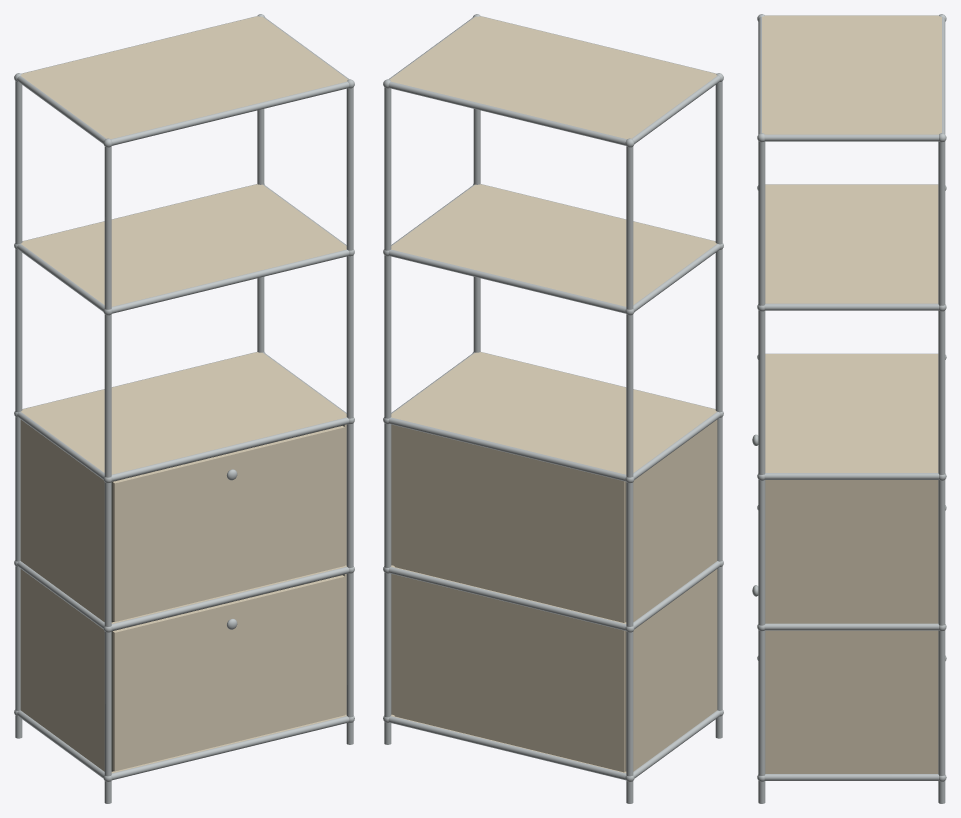
Rendered from layer-600-1520-ivory.glb.
The picture shows the model from 3 angles, left to right: view 1: azimuth 30°, elevation 25°; view 2: azimuth 150°, elevation 25°; view 3: azimuth 270°, elevation 25°; orthographic projection.
Parts seen in each view (by area): view 1: drop down door (×2), horizontal panel (×3), 15mm stainless tube (×14), left side; view 2: back, horizontal panel (×3), 15mm stainless tube (×14), left side, right side; view 3: horizontal panel (×3), right side, 15mm stainless tube (×9).
Part boxes in pixels (box(x1,y1,x2,y2)): drop down door (×2): box(112, 426, 344, 771); horizontal panel (×3): box(20, 16, 348, 474); 15mm stainless tube (×14): box(15, 75, 353, 803); left side: box(20, 420, 104, 771); back: box(394, 425, 625, 772); horizontal panel (×3): box(389, 16, 717, 474); 15mm stainless tube (×14): box(384, 75, 722, 803); left side: box(625, 420, 717, 771); right side: box(391, 424, 394, 715); horizontal panel (×3): box(762, 15, 941, 472); right side: box(765, 480, 938, 773); 15mm stainless tube (×9): box(758, 17, 945, 803).
Size of the model in its own units: 0.6 by 1.52 by 0.4.
